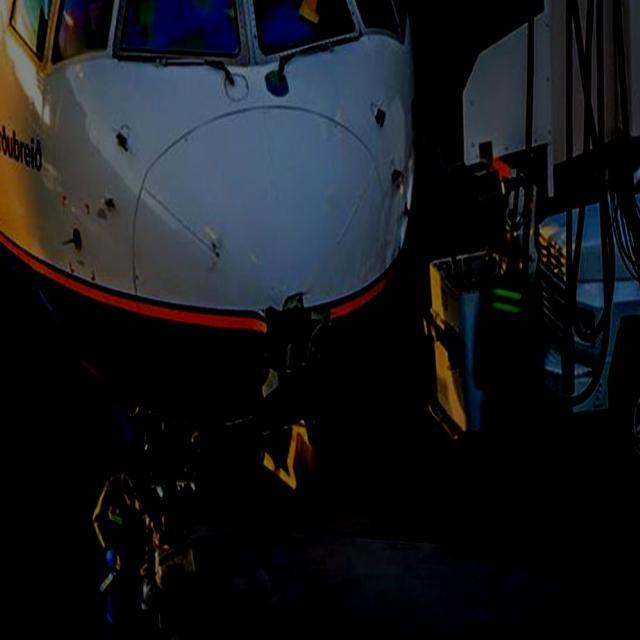crack: (254, 292, 332, 383)
